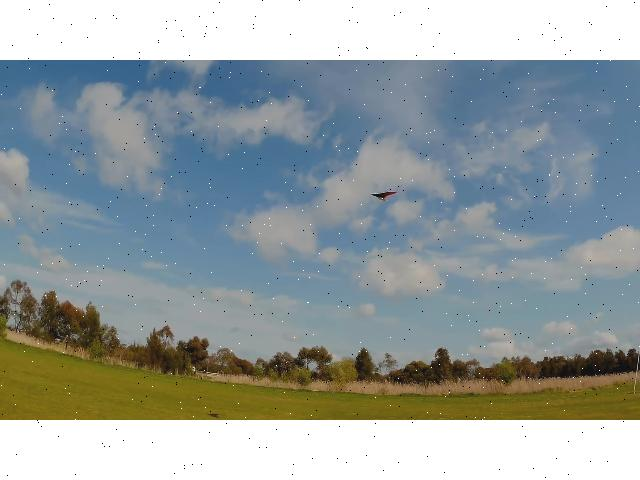Anti-Drone: (370, 191, 398, 200)
